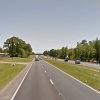Tree: (46, 39, 100, 62)
